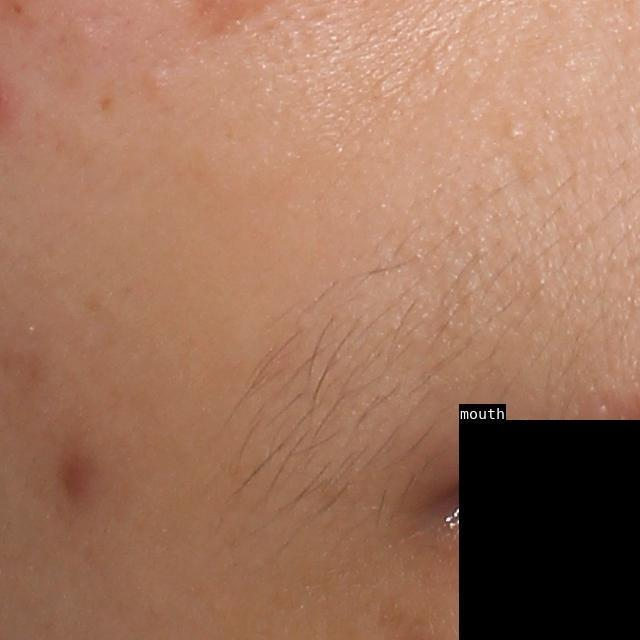comedo: (140, 65, 176, 100), (502, 121, 525, 145)
